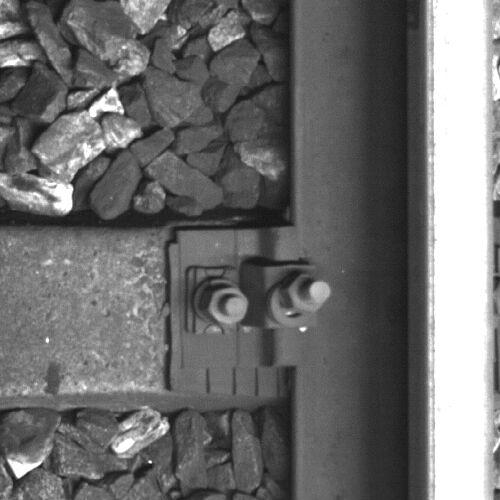kb: (180, 227, 334, 367)
nut: (279, 272, 333, 313), (202, 283, 248, 328)
rail: (425, 1, 493, 500)
tie_concr: (1, 229, 287, 394)
